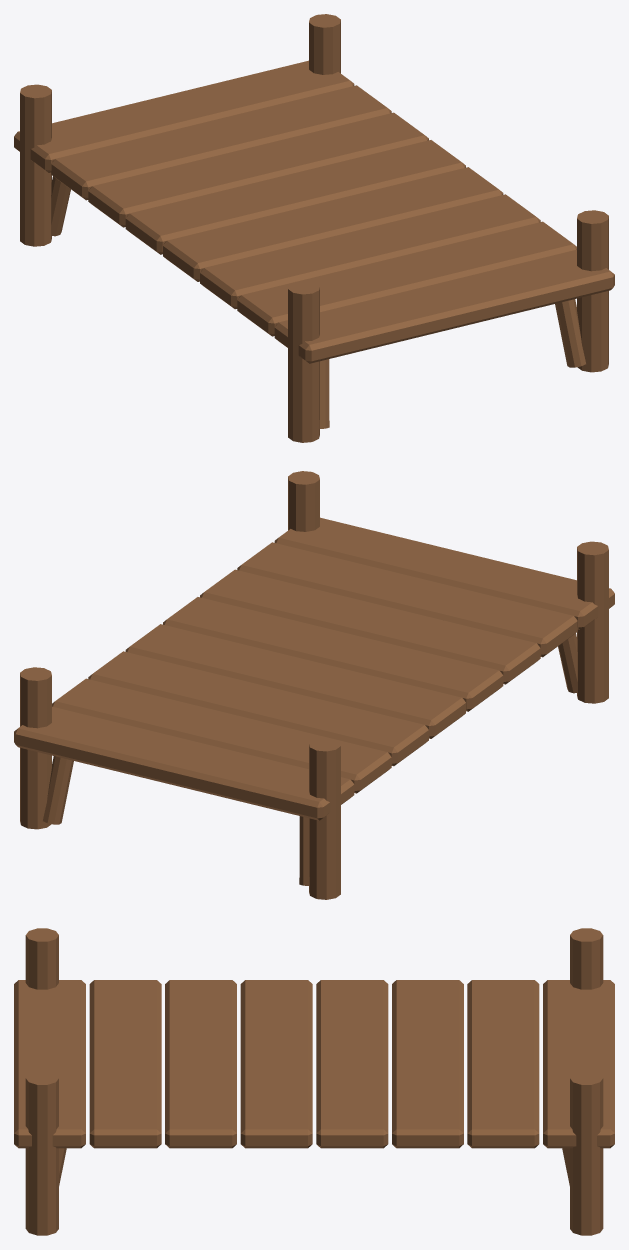
The model's file is Fishing_Dock_A.glb.
3 renders of one model, top to bottom at view 1: azimuth 30°, elevation 25°; view 2: azimuth 150°, elevation 25°; view 3: azimuth 270°, elevation 25°, orthographic.
Parts seen in each view (by area): view 1: Fishing_Dock_A; view 2: Fishing_Dock_A; view 3: Fishing_Dock_A.
Part boxes in pixels (bbox=[...]): Fishing_Dock_A: bbox=[14, 14, 614, 442]; Fishing_Dock_A: bbox=[14, 471, 614, 899]; Fishing_Dock_A: bbox=[14, 928, 614, 1235].
Bounding box in the file's own units: 1.22 × 0.55 × 1.99.
